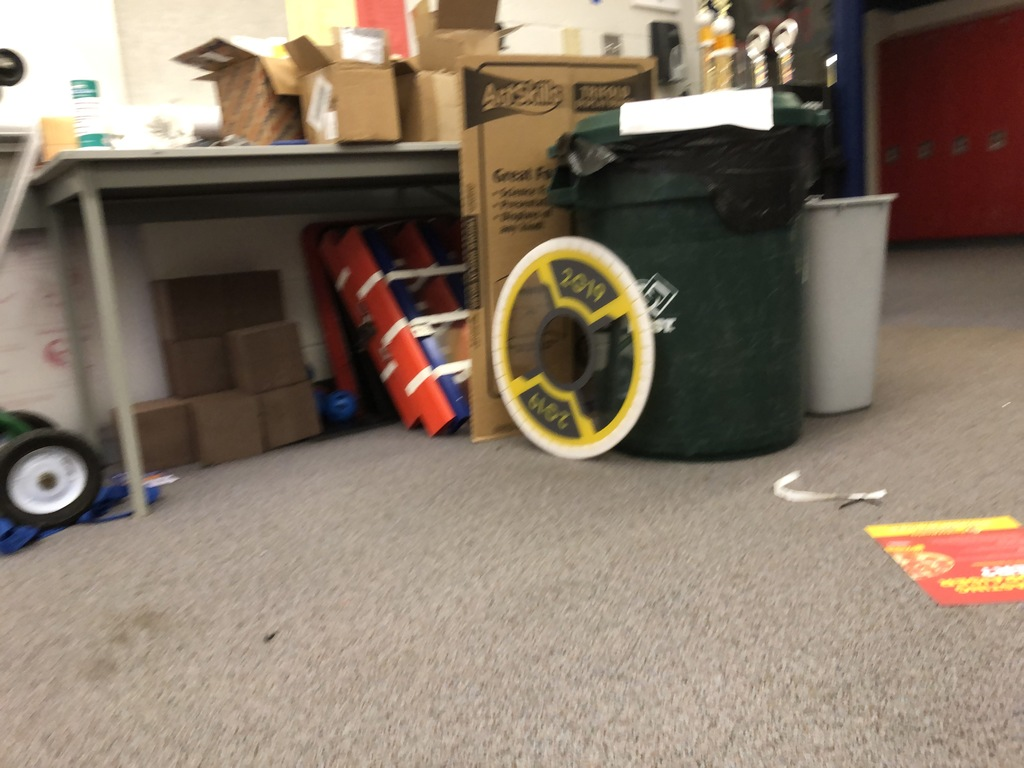hatch_panel: (485, 226, 652, 471)
